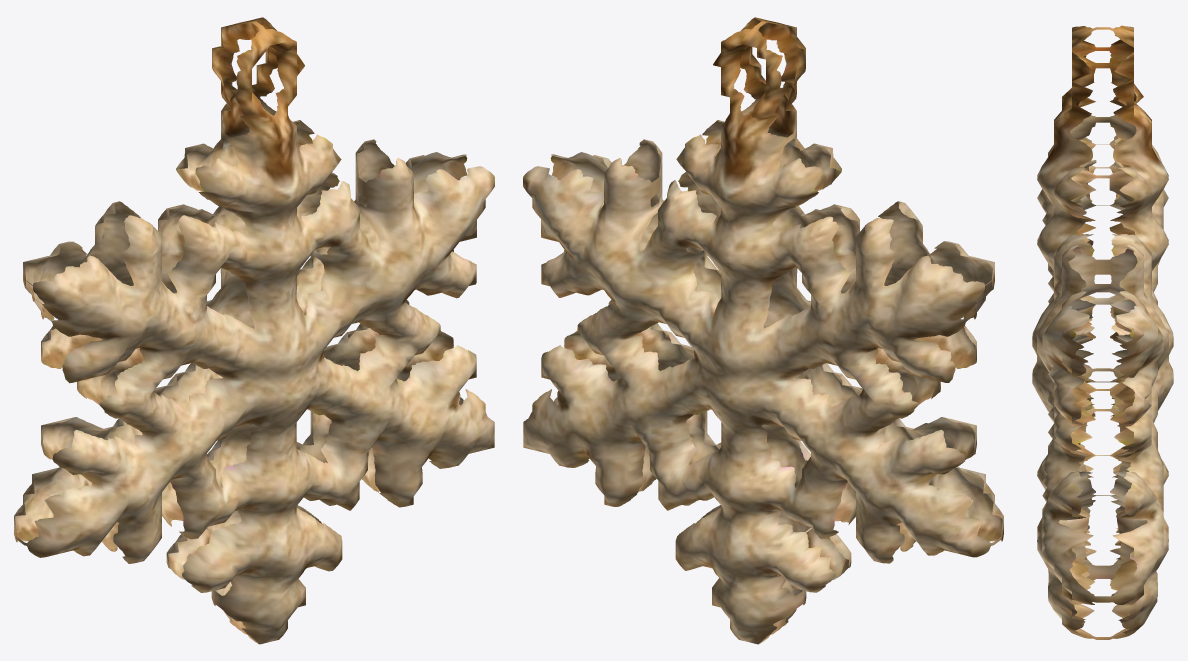
The model's file is Item_flake.glb.
3 views of the same model, side by side, from view 1: azimuth 30°, elevation 25°; view 2: azimuth 150°, elevation 25°; view 3: azimuth 270°, elevation 25° (orthographic).
Parts seen in each view (by area): view 1: Item_flake carving; view 2: Item_flake carving; view 3: Item_flake carving.
Part boxes in pixels (x1,y1,x2,y2): Item_flake carving: (14, 17, 494, 644); Item_flake carving: (523, 17, 1003, 644); Item_flake carving: (1032, 25, 1173, 639).
Bounding box in the file's own units: 0.2357 × 0.2961 × 0.062.
1 material, 1 textured.
